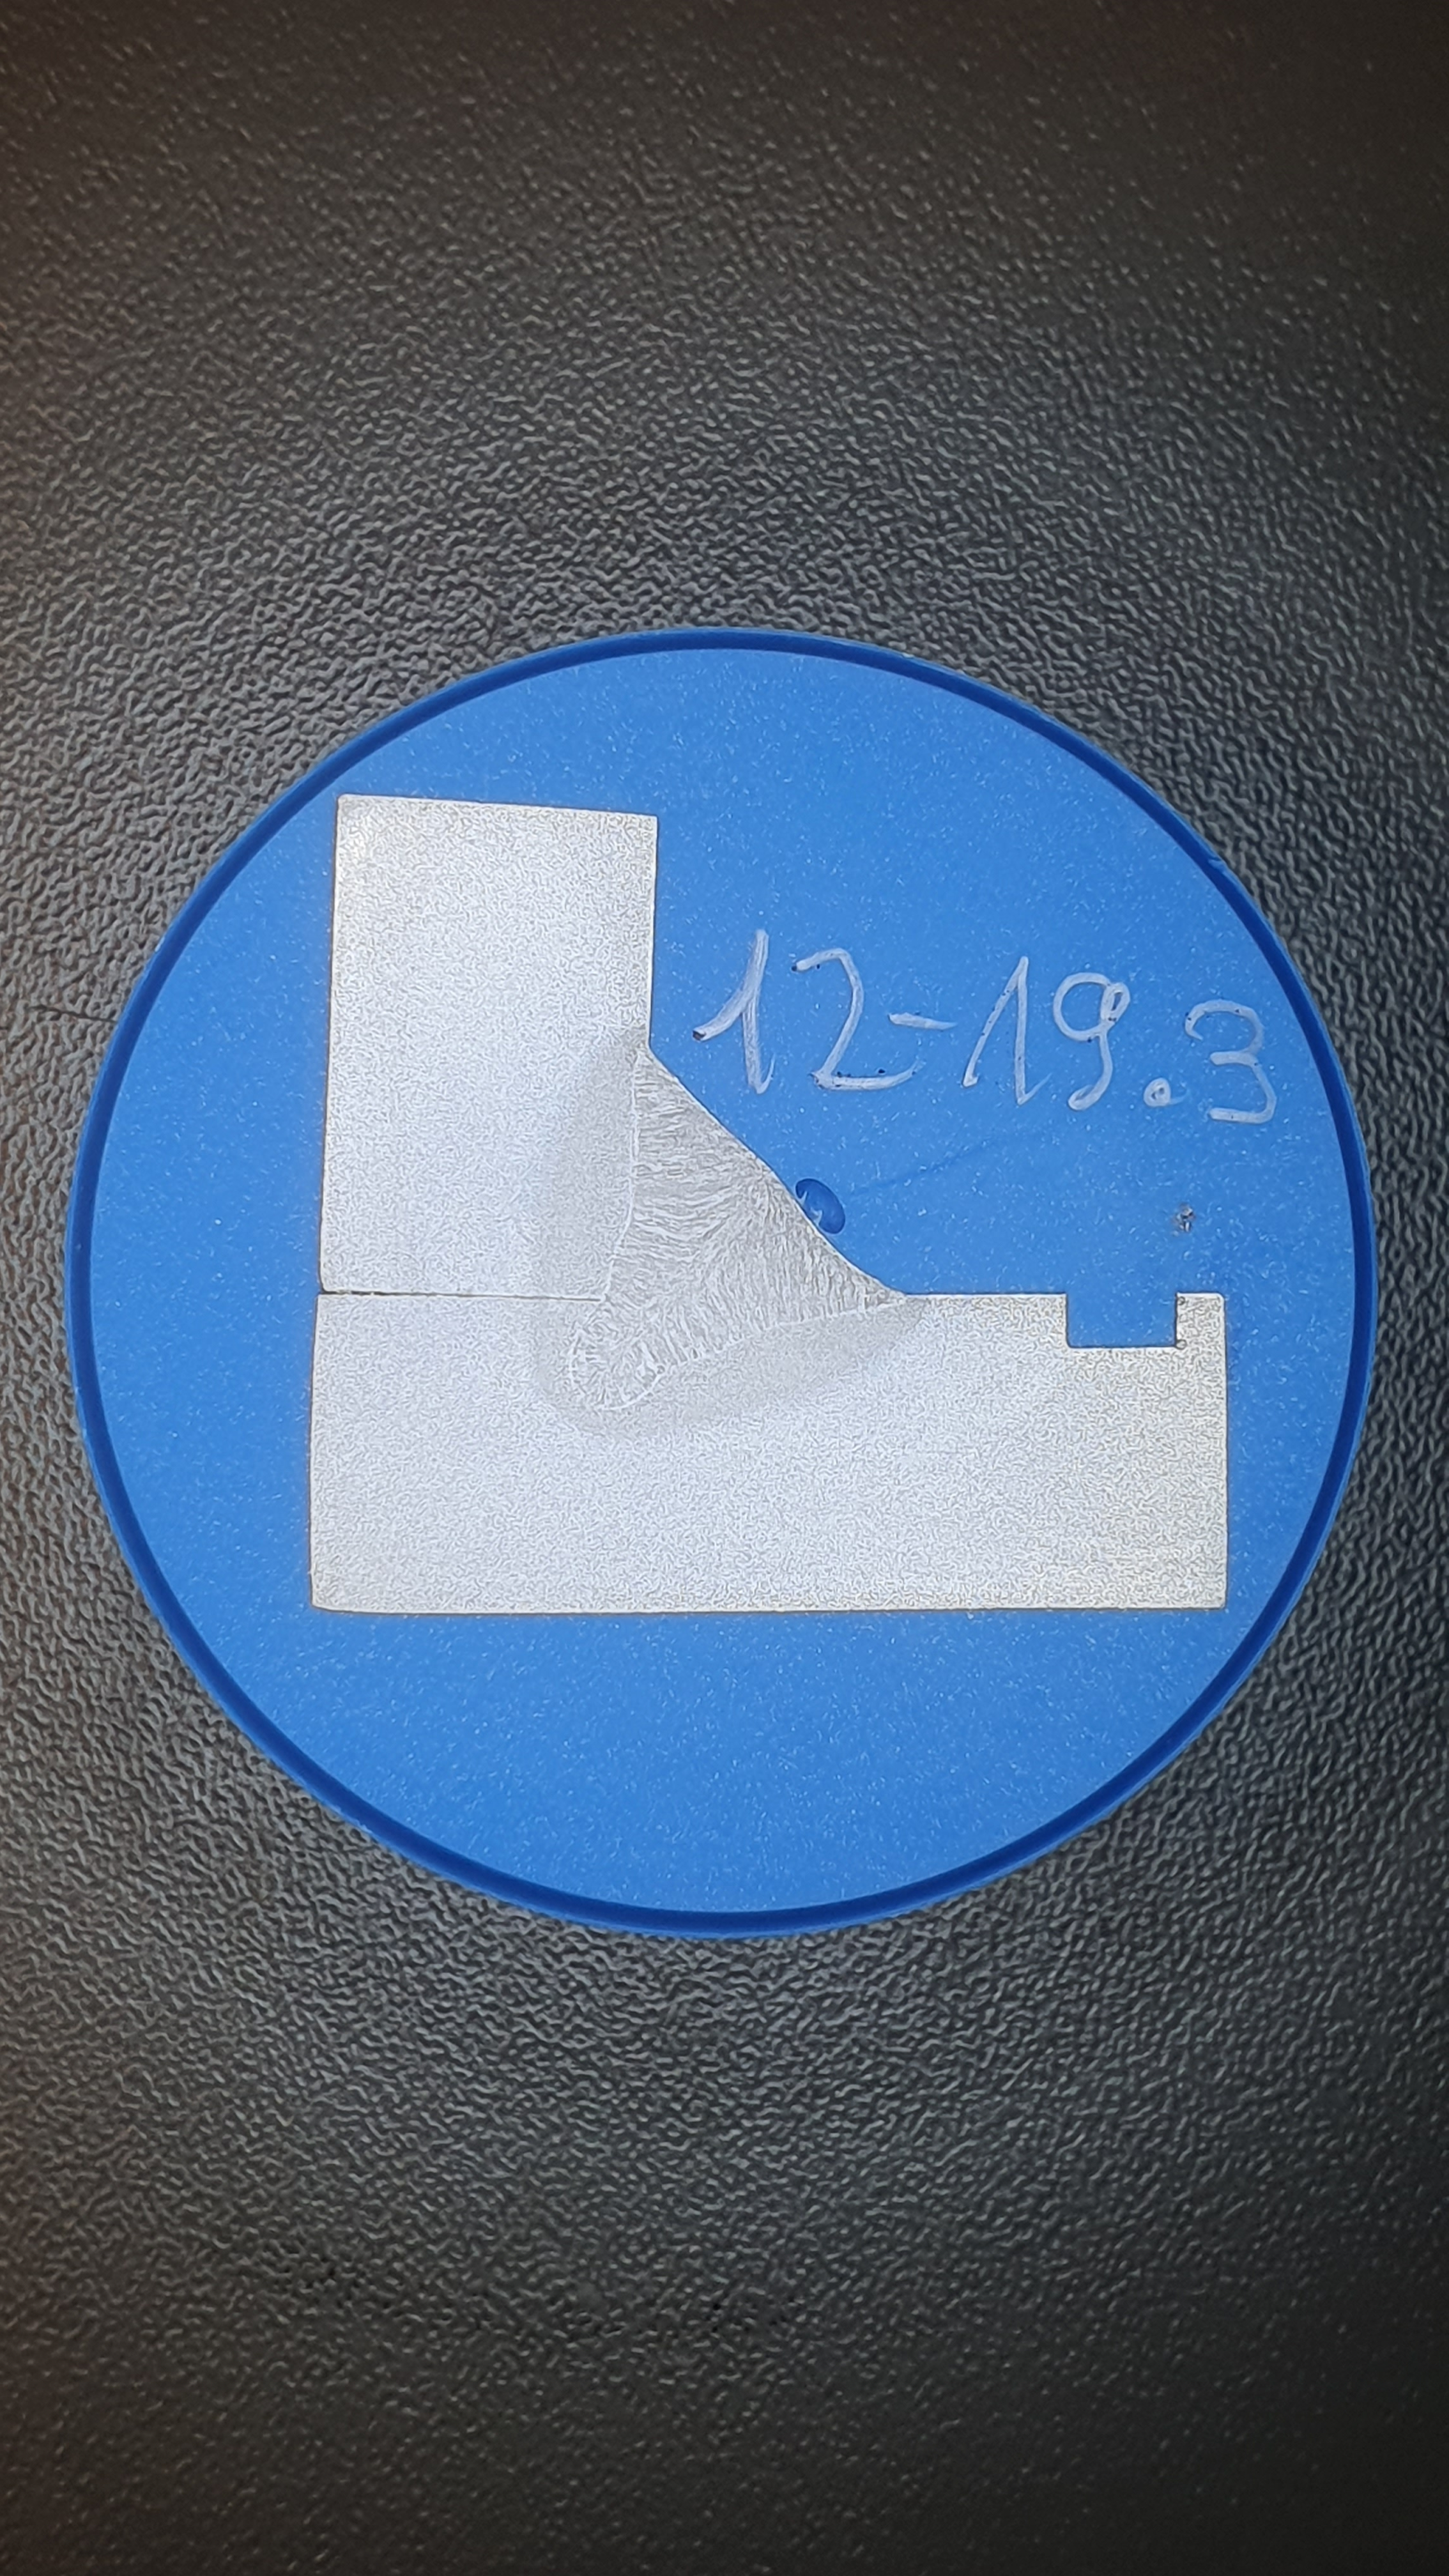Fusion: (571, 1041, 907, 1407)
Hintergrund: (89, 647, 1354, 1912)
Metall: (309, 792, 1228, 1614)
Nebenbereich: (525, 1022, 927, 1437)
